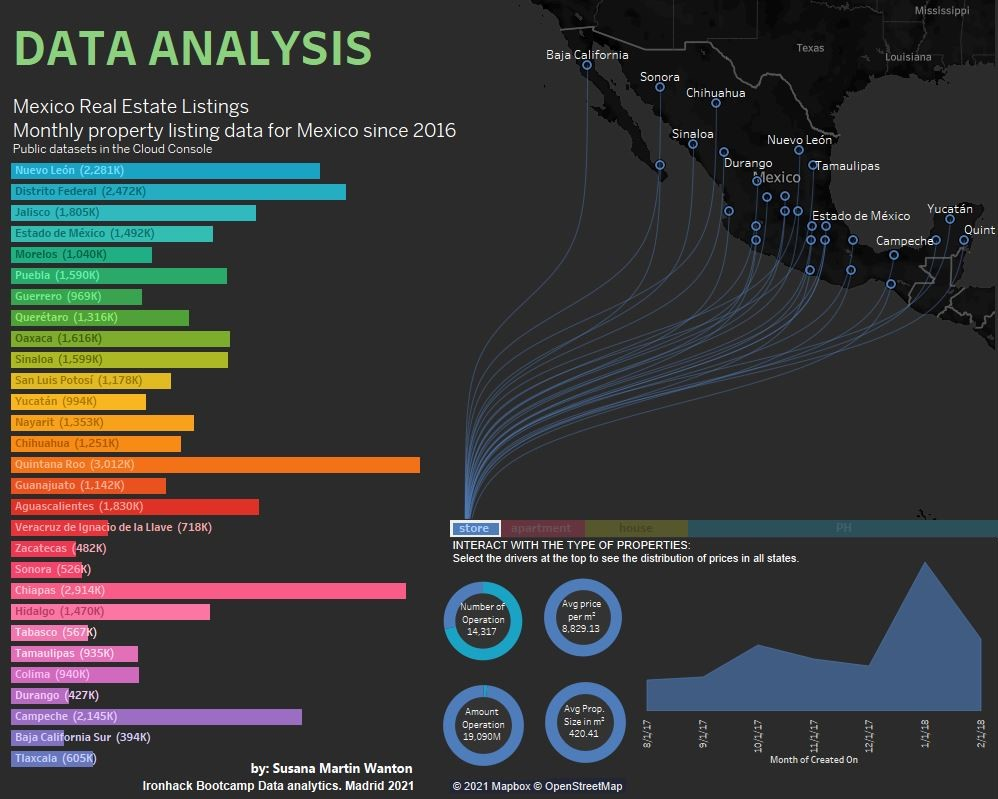

The page's visual inventory and layout, read from the dashboard file:
{"tool":"tableau","page":{"name":"Dashboard 1","canvas":[1000,800],"ordinal":0},"visuals":[{"type":"worksheet","box":[11,6,539,159]},{"type":"worksheet","title":"Estados","mark":"Automatic","rows":["state_name"],"cols":["price"],"box":[12,160,429,609]},{"type":"worksheet","box":[451,537,541,30]},{"type":"worksheet","title":"Operation/date","mark":"Area","rows":["operation"],"cols":["created_on"],"box":[631,555,368,218]},{"type":"worksheet","title":"KPI 1 (3)","mark":"Pie","cols":["Calculation_804455526848184341","Calculation_804455526848446487"],"box":[525,565,118,105]},{"type":"worksheet","title":"KPI 1","mark":"Pie","cols":["Calculation_804455526848184341","Calculation_804455526848446487"],"box":[429,568,110,106]},{"type":"worksheet","title":"KPI 1 (4)","mark":"Pie","cols":["Calculation_804455526848184341","Calculation_804455526848446487"],"box":[531,668,111,109]},{"type":"worksheet","title":"KPI 1 (2)","mark":"Pie","cols":["Calculation_804455526848184341","Calculation_804455526848446487"],"box":[423,671,123,109]},{"type":"worksheet","box":[249,758,257,26]},{"type":"worksheet","box":[141,775,350,22]}]}

Visuals, with their boxes in screenshot pixels (x1, y1, x2, y2), scaled from the page's 1000x800 canvas onto the 998x799 screenshot:
worksheet: bbox=(11, 6, 549, 165)
"Estados" worksheet: bbox=(12, 160, 440, 768)
worksheet: bbox=(450, 536, 990, 566)
"Operation/date" worksheet (Area marks): bbox=(630, 554, 997, 772)
"KPI 1 (3)" worksheet (Pie marks): bbox=(524, 564, 642, 669)
"KPI 1" worksheet (Pie marks): bbox=(428, 567, 538, 673)
"KPI 1 (4)" worksheet (Pie marks): bbox=(530, 667, 641, 776)
"KPI 1 (2)" worksheet (Pie marks): bbox=(422, 670, 545, 779)
worksheet: bbox=(249, 757, 505, 783)
worksheet: bbox=(141, 774, 490, 796)
